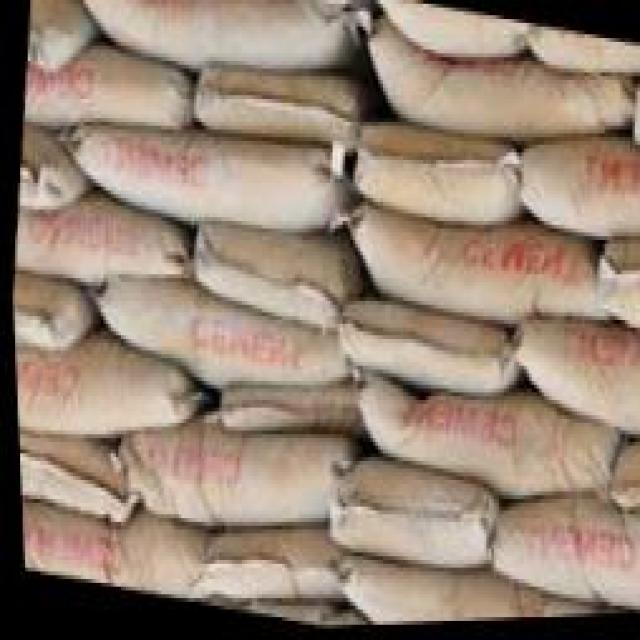gunny_bag: (371, 14, 631, 147), (345, 204, 605, 332), (359, 377, 612, 505), (65, 124, 346, 233), (99, 281, 348, 392), (115, 425, 349, 532), (80, 0, 359, 75), (333, 551, 583, 628), (188, 220, 356, 332), (325, 461, 486, 570), (17, 501, 203, 594), (353, 123, 517, 227), (12, 343, 191, 436), (487, 503, 639, 612), (343, 300, 513, 397), (194, 60, 356, 153), (11, 201, 184, 288), (513, 327, 640, 439), (21, 51, 186, 130), (517, 146, 640, 245), (195, 524, 336, 603), (375, 0, 528, 63), (15, 434, 126, 519), (216, 381, 355, 436), (10, 272, 89, 344), (529, 29, 640, 76), (599, 243, 640, 337), (626, 88, 640, 159)
